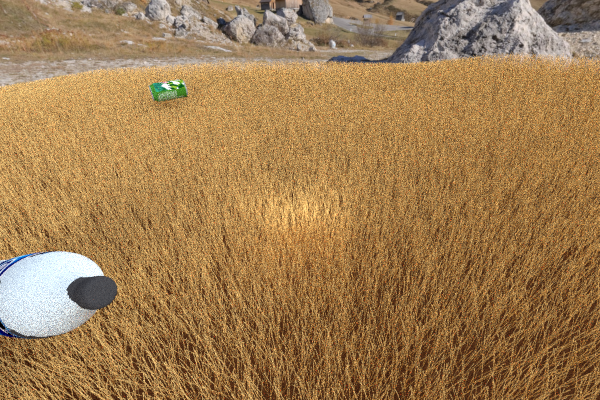Plastic Bottle: (0, 251, 117, 338), (148, 79, 187, 101)
